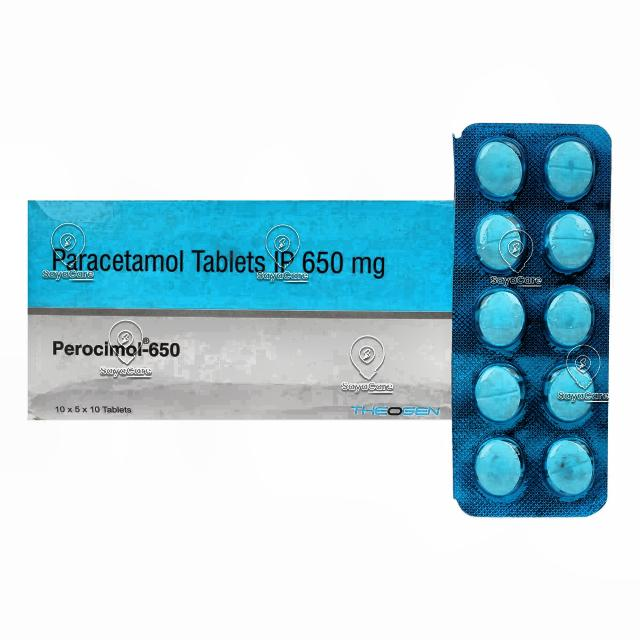Paracetamol: (41, 214, 393, 362)
